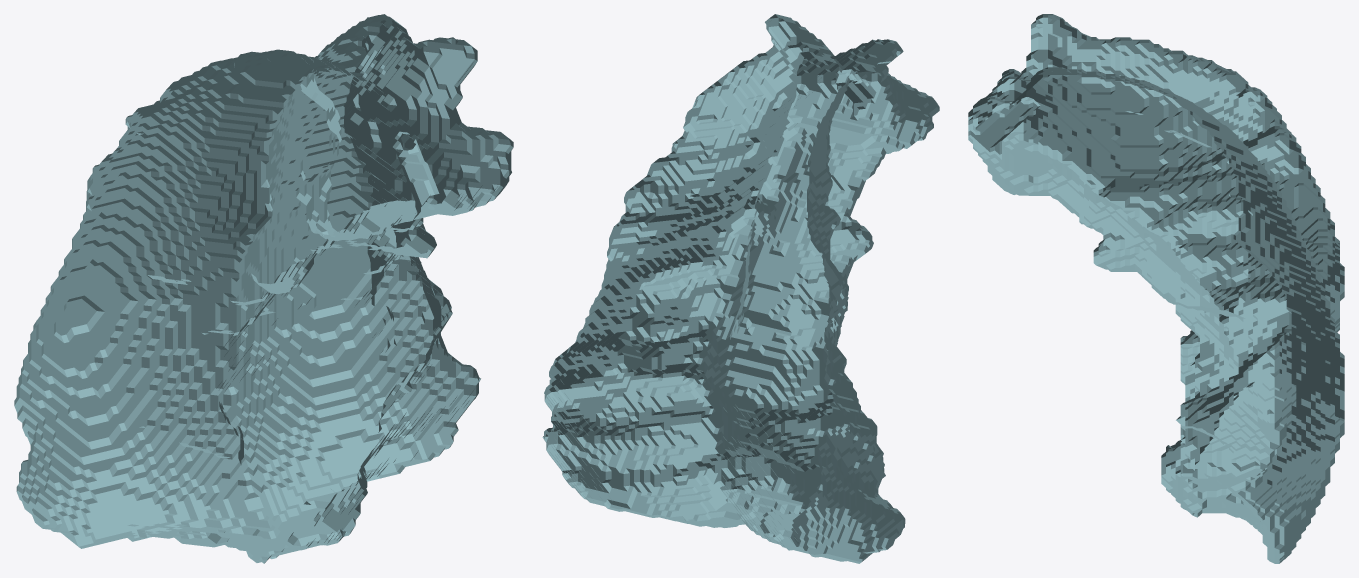
File: region_0040_Dm__medial_zone_of_dorsal_telencephalon_.glb
3 renders of one model, left to right at view 1: azimuth 30°, elevation 25°; view 2: azimuth 150°, elevation 25°; view 3: azimuth 270°, elevation 25°, orthographic. The views are drawn at different scales.
Parts seen in each view (by area): view 1: world; view 2: world; view 3: world.
Part boxes in pixels (x1,y1,x2,y2): world: (14, 14, 513, 563); world: (542, 14, 939, 563); world: (968, 14, 1344, 563).
Bounding box in the file's own units: 0.728 × 0.832 × 0.624.
